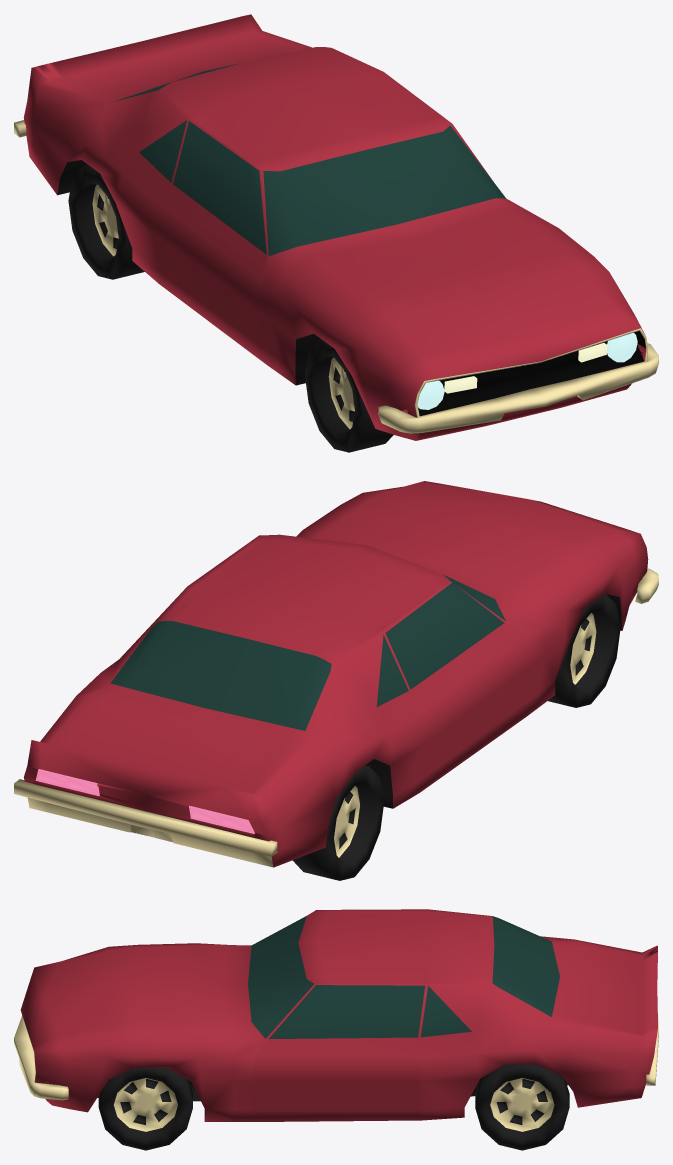
The model's file is muscle_60s_red.glb.
3 views of the same model, one above another, from view 1: azimuth 30°, elevation 25°; view 2: azimuth 150°, elevation 25°; view 3: azimuth 270°, elevation 25° (orthographic). The views are drawn at different scales.
Parts seen in each view (by area): view 1: Body_0, Tires_1; view 2: Body_0, Tires_1; view 3: Body_0, Tires_1.
Boxes of the visible parts, x1,y1,x2,y2 form: Body_0: (14,14,658,440); Tires_1: (68,164,393,452); Body_0: (14,481,658,867); Tires_1: (293,593,620,880); Body_0: (14,909,658,1121); Tires_1: (98,1064,569,1150).
Bounding box in the file's own units: 3.7 × 2.61 × 9.42.
